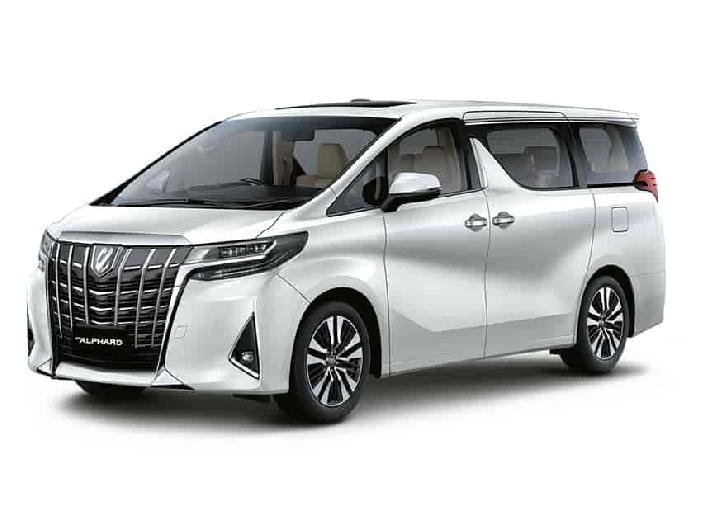mobil: (16, 90, 674, 436)
